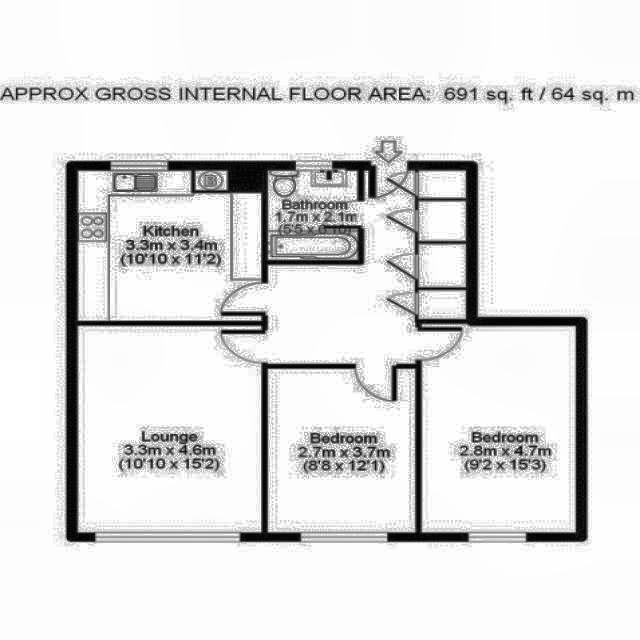room: (77, 325, 262, 533), (268, 171, 466, 364), (422, 323, 576, 533), (76, 170, 261, 321), (268, 369, 415, 532), (268, 171, 358, 260)
